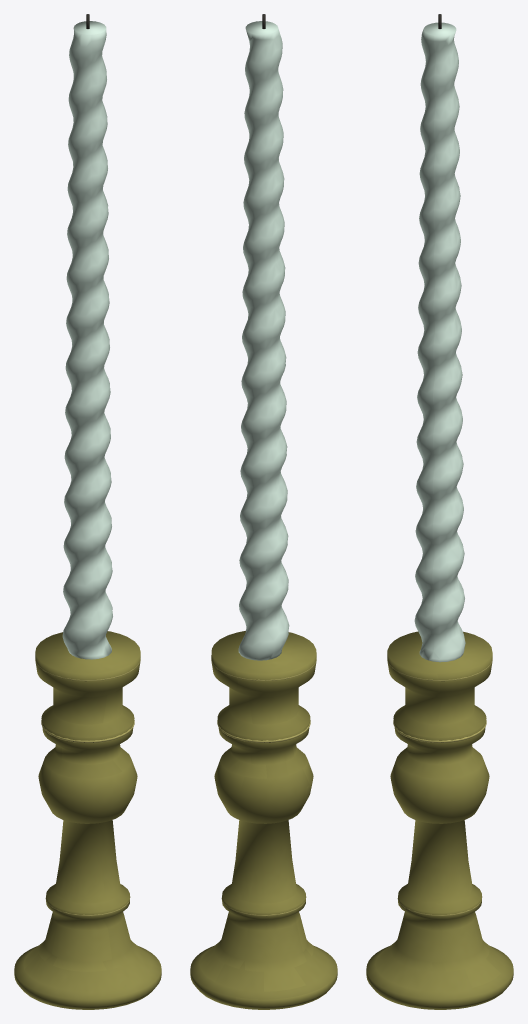
The model's file is 01_Spiral_Candle.fbx.
3 views of the same model, side by side, from view 1: azimuth 30°, elevation 25°; view 2: azimuth 150°, elevation 25°; view 3: azimuth 270°, elevation 25° (orthographic).
Visible parts, largest first — view 1: 01_Spiral_Candle_Mesh; view 2: 01_Spiral_Candle_Mesh; view 3: 01_Spiral_Candle_Mesh.
Part boxes in pixels (x1,y1,x2,y2): 01_Spiral_Candle_Mesh: (14,14,161,1009); 01_Spiral_Candle_Mesh: (190,14,337,1009); 01_Spiral_Candle_Mesh: (366,14,513,1009).
Bounding box in the file's own units: 9.8 × 71 × 9.8.
1 material, 1 textured.
